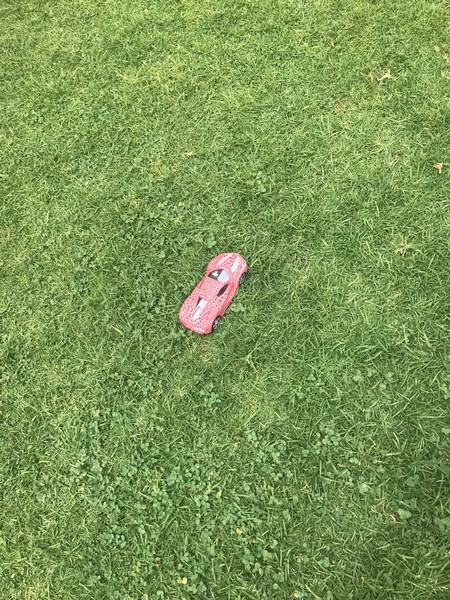RC: (176, 250, 252, 336)
